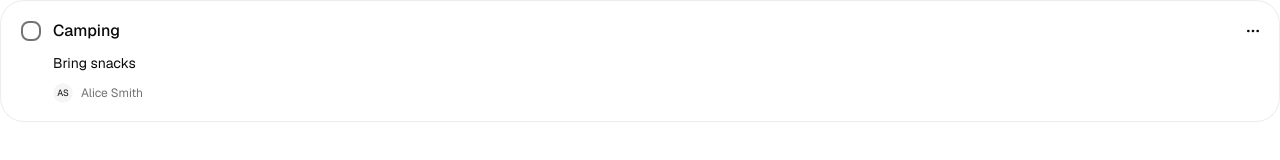
Scenario: BucketItemCard › gives every member the planning actions but only the suggester and admins Edit and Delete
Later steps or results of the test are not shown.
Click the button named "Actions for Camping" at {"x": 1253, "y": 31}, box [1235,13,1271,49]
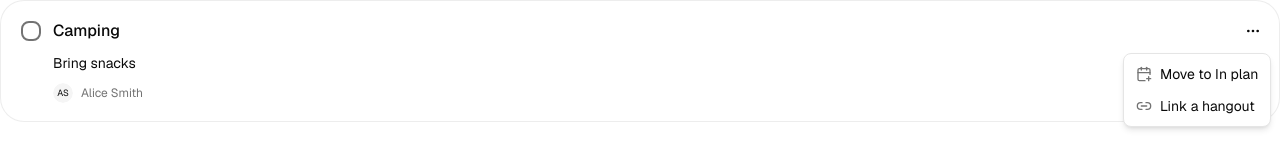
Result: the menu item "Move to In plan" is shown at [1136,65,1258,83]
Result: the menu item "Link a hangout" is shown at [1136,97,1255,115]
